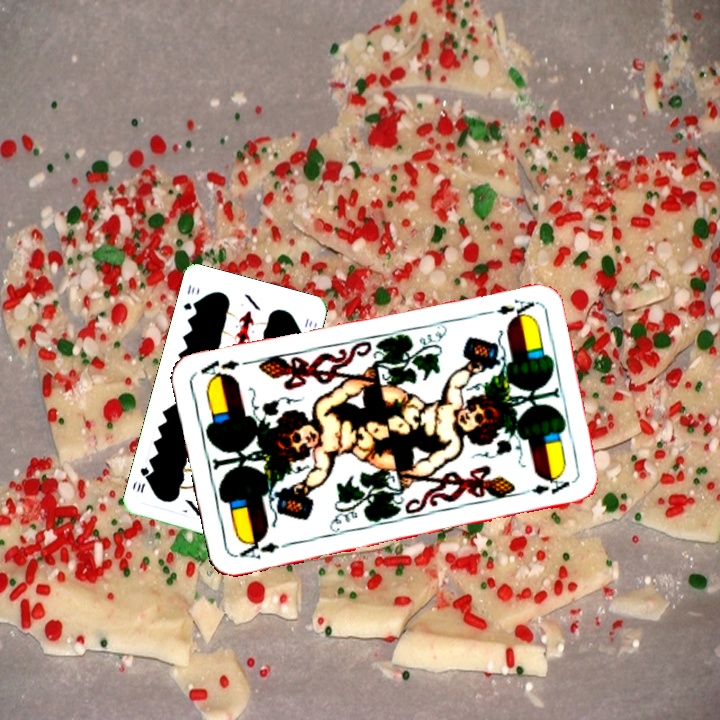EA: (234, 534, 292, 562), (492, 295, 538, 318)
G10: (179, 280, 200, 313)
